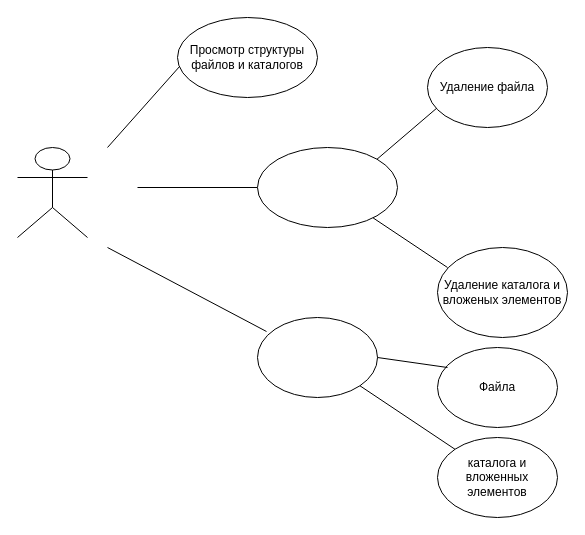
The diagram is 585 pixels wide and 535 high, and some of its shapes have lost their labels. Here are the shapes that lost their labels. From the top down, the centre of each, then its label:
At pixel 52 192: "Actor".
At pixel 327 187: "Удаление".
At pixel 317 357: "Копирование".
